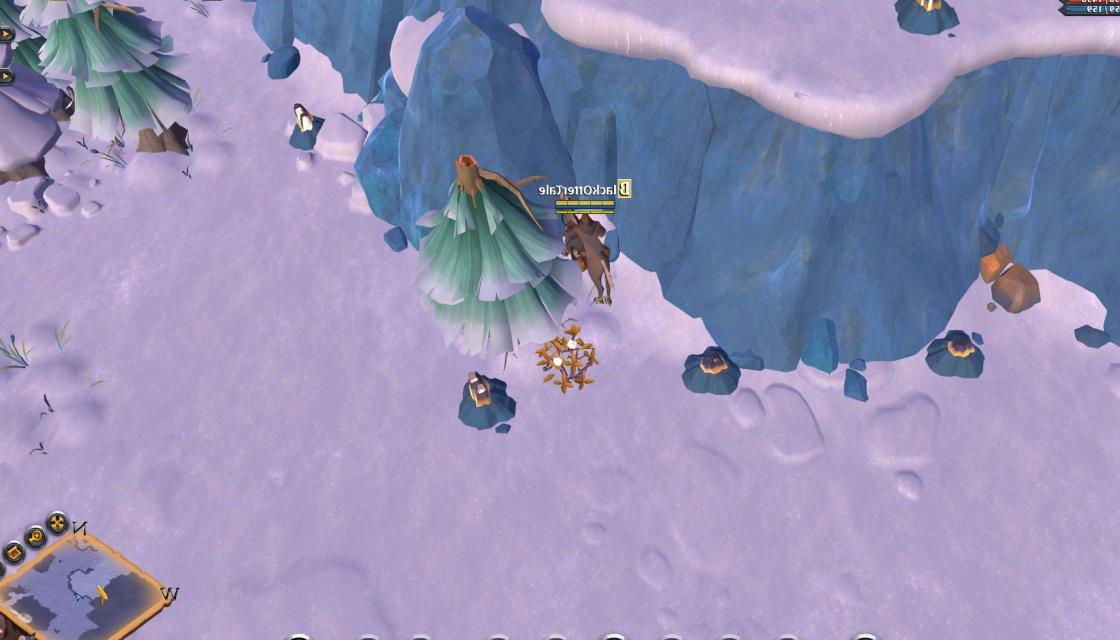copperore: (456, 367, 520, 428), (924, 327, 990, 379), (682, 344, 740, 397), (280, 96, 330, 153), (890, 0, 963, 34)
limestone: (979, 241, 1045, 316)
